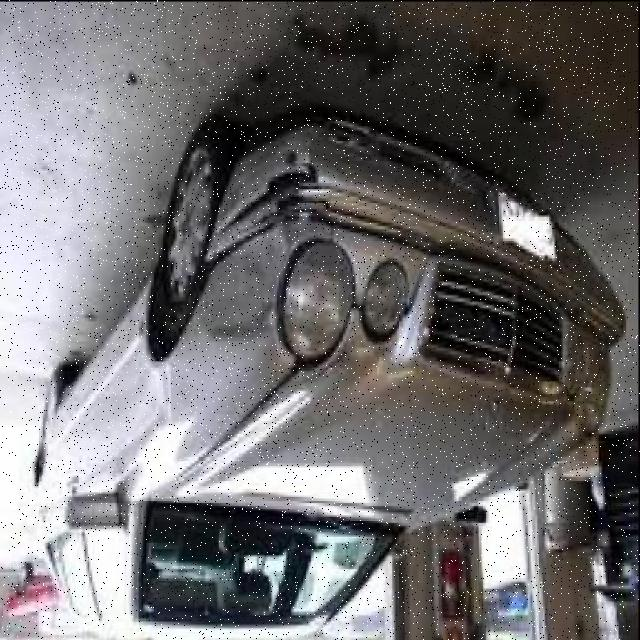damage: (201, 145, 353, 340), (193, 355, 334, 474)
